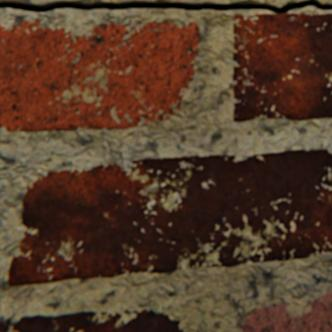brick: (9, 149, 331, 284), (0, 21, 199, 130), (233, 13, 331, 121), (0, 308, 183, 331), (240, 290, 331, 331)
crack: (0, 0, 331, 13)
